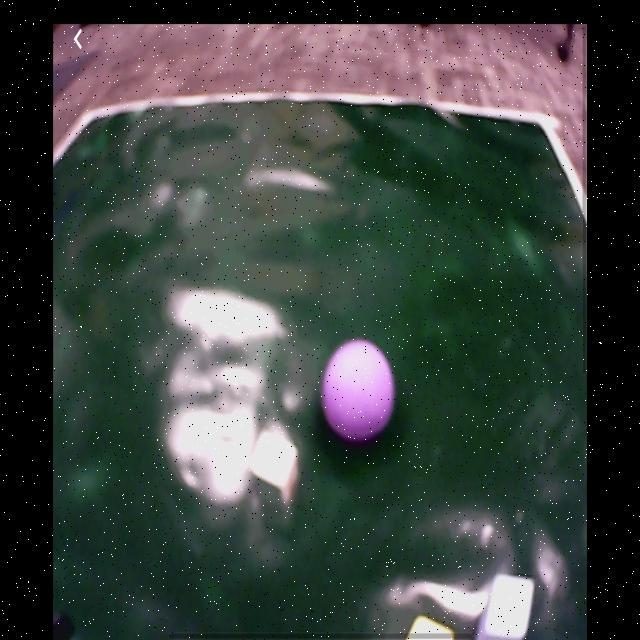ball: (322, 339, 397, 442)
